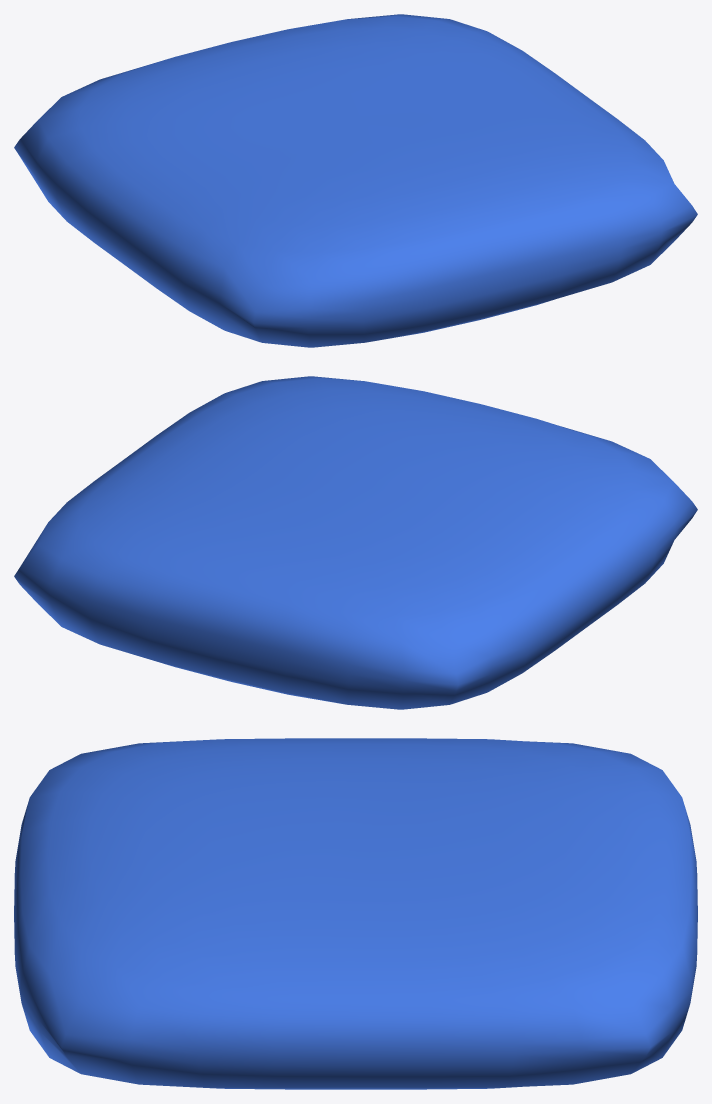
Rendered from Bag.glb.
3 renders of one model, top to bottom at view 1: azimuth 30°, elevation 25°; view 2: azimuth 150°, elevation 25°; view 3: azimuth 270°, elevation 25°, orthographic. The views are drawn at different scales.
Visible parts, largest first — view 1: Bag; view 2: Bag; view 3: Bag.
Part boxes in pixels (x1,y1,x2,y2): Bag: (14,14,697,347); Bag: (14,376,697,709); Bag: (14,738,697,1089).
Bounding box in the file's own units: 0.6129 × 0.1529 × 0.6217.
